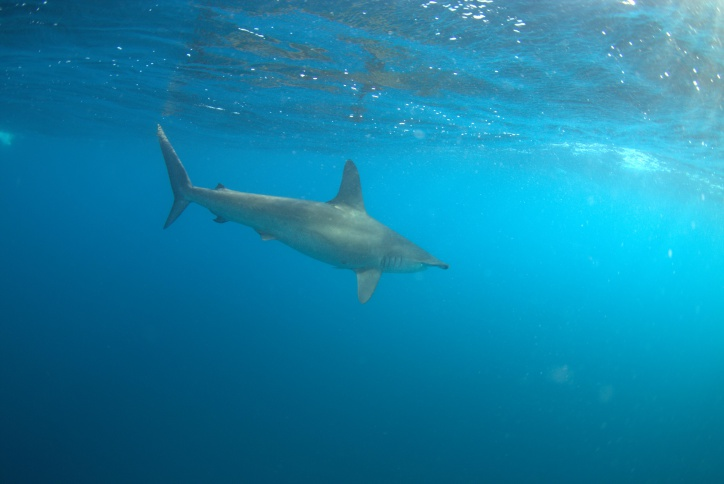Hammer: (125, 120, 479, 325), (332, 193, 532, 286)
